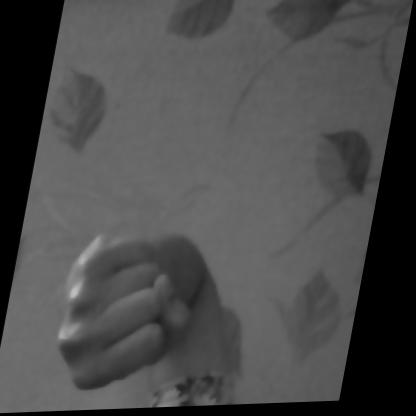fist: (30, 186, 271, 412)
